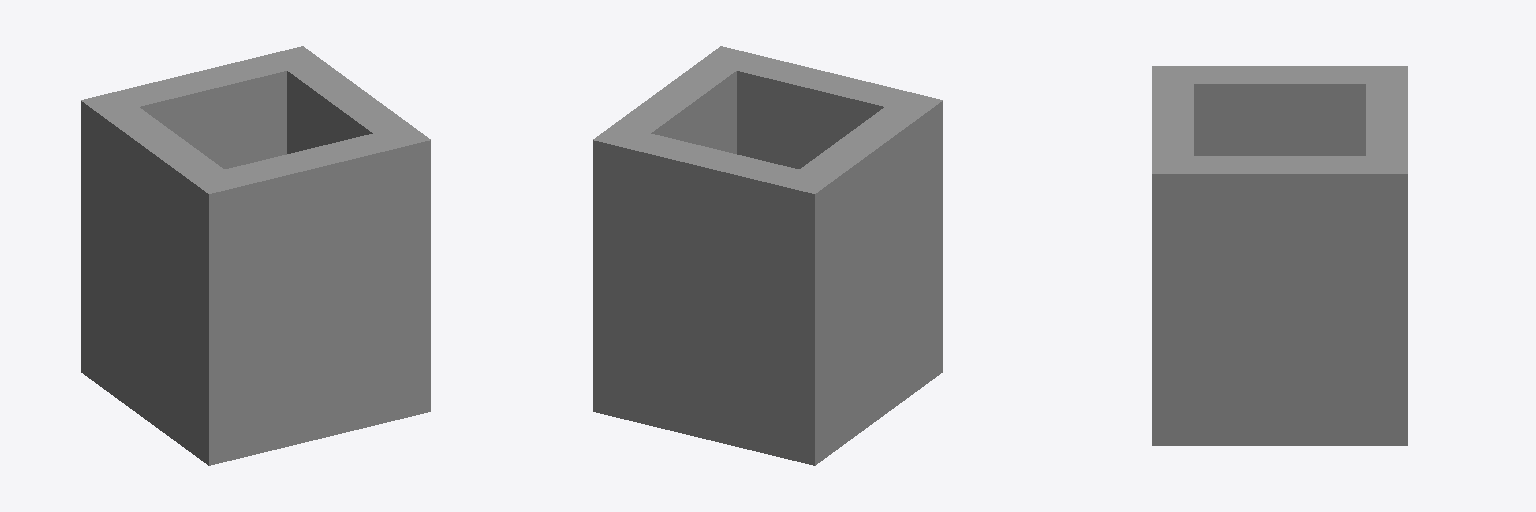
Rendered from cup.obj.
3 views of the same model, side by side, from view 1: azimuth 30°, elevation 25°; view 2: azimuth 150°, elevation 25°; view 3: azimuth 270°, elevation 25° (orthographic).
Parts seen in each view (by area): view 1: nodebox1; view 2: nodebox1; view 3: nodebox1.
Part boxes in pixels (x1,y1,x2,y2): nodebox1: (81,46,430,465); nodebox1: (593,46,942,465); nodebox1: (1152,66,1407,445).
Size of the model in its own units: 0.375 by 0.4375 by 0.375.